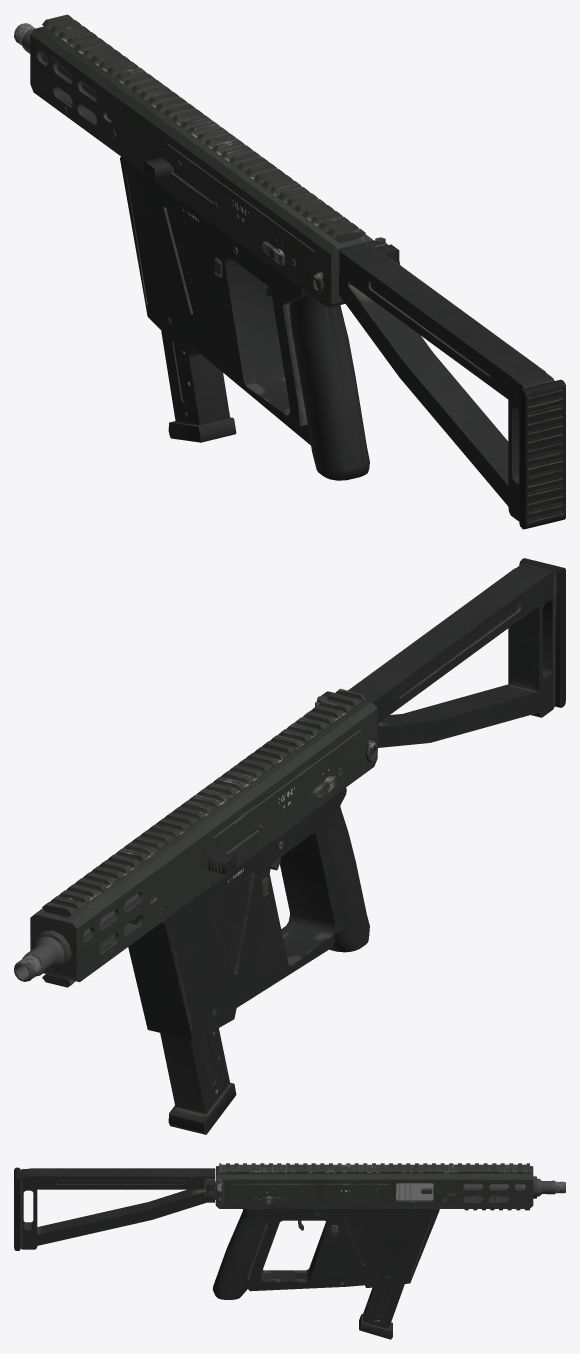
File: smg_ciclone_9mm_leve.glb
The picture shows the model from 3 angles, top to bottom: view 1: azimuth 30°, elevation 25°; view 2: azimuth 150°, elevation 25°; view 3: azimuth 270°, elevation 25°; orthographic projection. The views are drawn at different scales.
Parts seen in each view (by area): view 1: smg_ciclone_9mm_leve; view 2: smg_ciclone_9mm_leve; view 3: smg_ciclone_9mm_leve.
Boxes of the visible parts, x1,y1,x2,y2 form: smg_ciclone_9mm_leve: (14, 14, 565, 529); smg_ciclone_9mm_leve: (14, 558, 565, 1134); smg_ciclone_9mm_leve: (14, 1163, 565, 1339).
Bounding box in the file's own units: 0.0566 × 0.2171 × 0.6432.
Materials: 1 (1 with a texture image).
